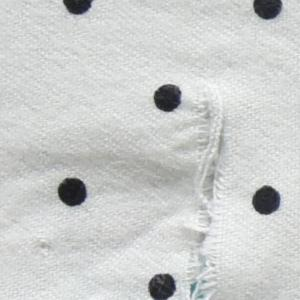Damage: (180, 80, 231, 300), (36, 234, 59, 266)
